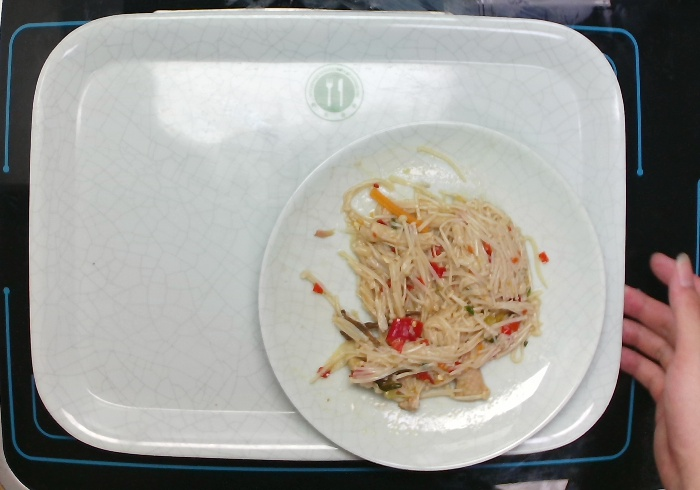JYsf-Da_Yuan_Pan: (252, 114, 612, 476)
